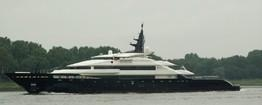yacht: (4, 22, 242, 93)
